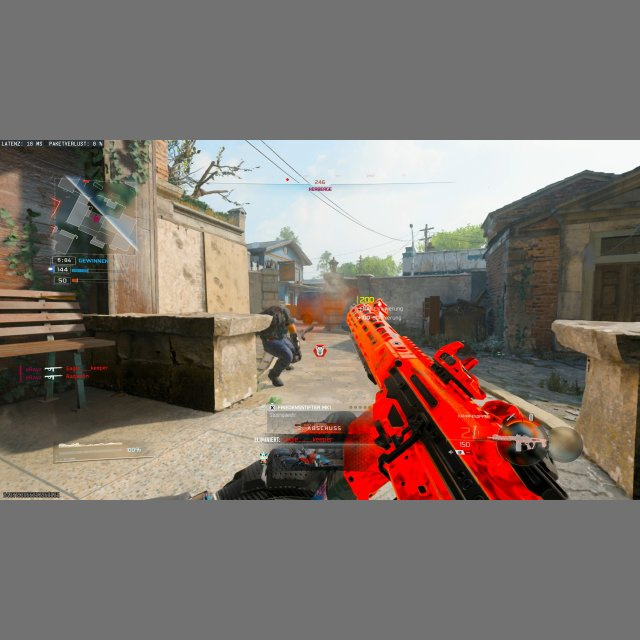player: (258, 304, 300, 387)
